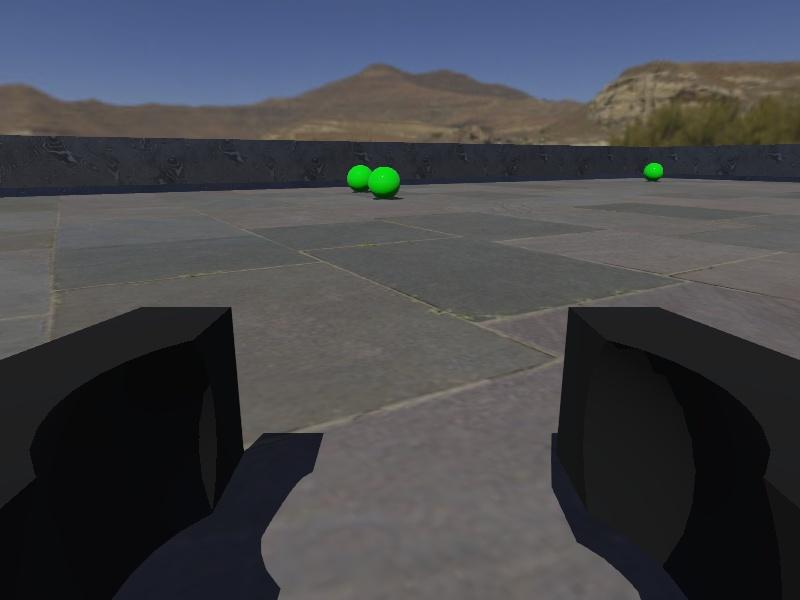green ball: (368, 165, 401, 201), (643, 161, 665, 182)
